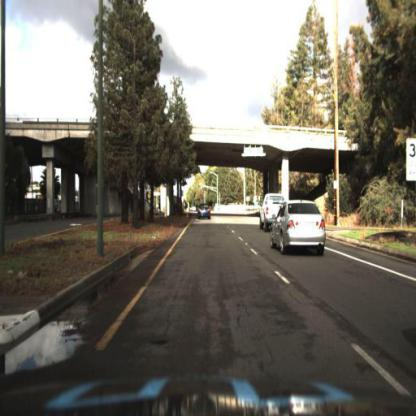car: (267, 196, 327, 258), (258, 189, 288, 229), (196, 201, 214, 224)
